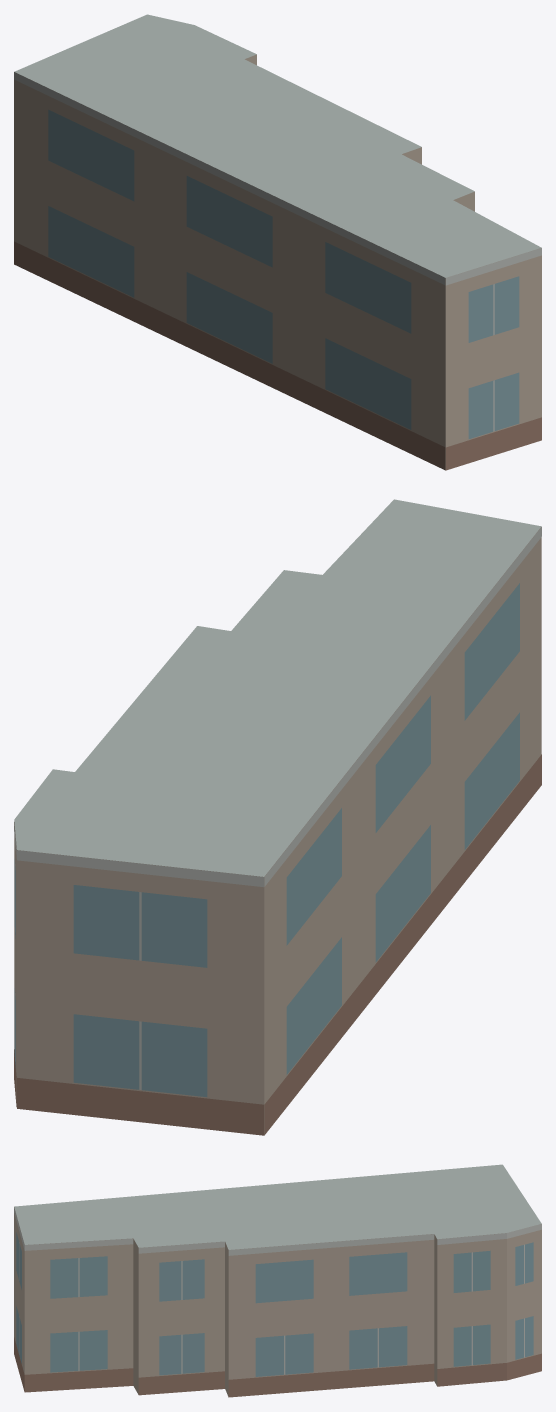
File: survey-upis-32650254.glb
3 renders of one model, top to bottom at view 1: azimuth 30°, elevation 25°; view 2: azimuth 150°, elevation 25°; view 3: azimuth 270°, elevation 25°, orthographic. The views are drawn at different scales.
Visible parts, largest first — view 1: survey-upis-32650254.tmp; view 2: survey-upis-32650254.tmp; view 3: survey-upis-32650254.tmp.
Boxes of the visible parts, <box> form: survey-upis-32650254.tmp: <box>14,14,541,470</box>; survey-upis-32650254.tmp: <box>14,499,541,1135</box>; survey-upis-32650254.tmp: <box>14,1164,541,1397</box>.
Size of the model in its own units: 7.6 by 6.1 by 19.8.
